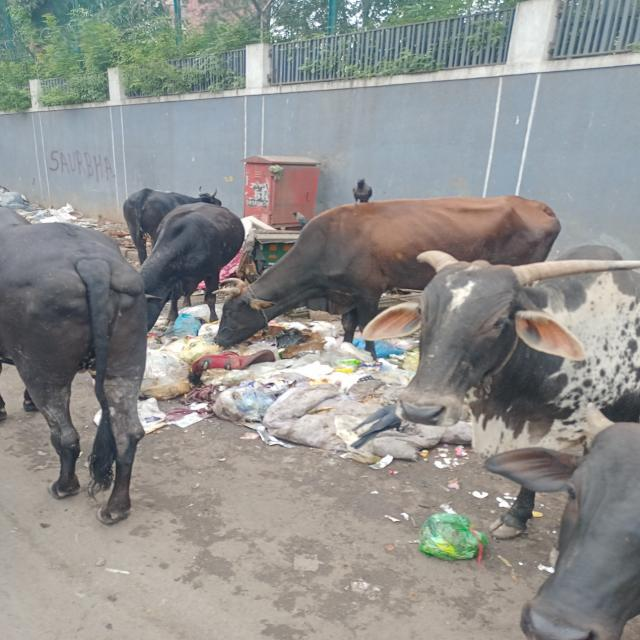garbage: (147, 309, 387, 441)
